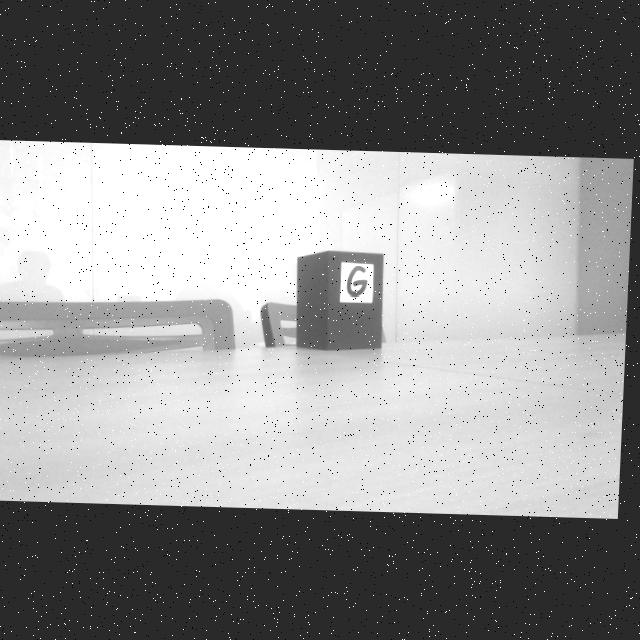G: (350, 264, 371, 294)
